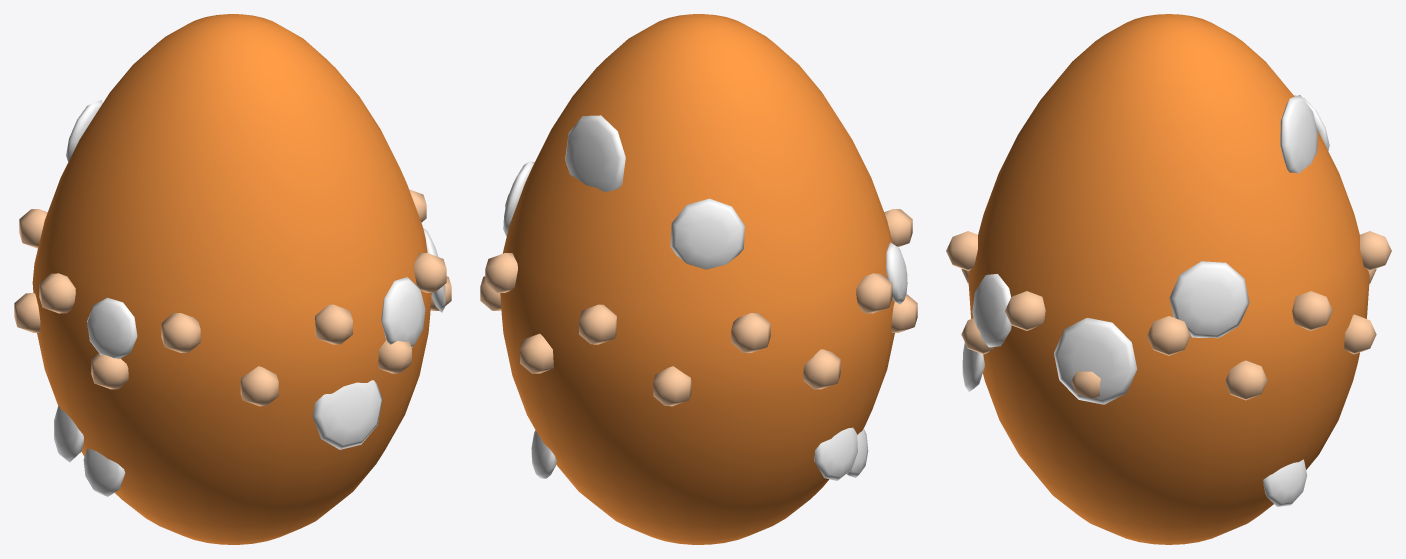
File: Egg_Forest.fbx
3 views of the same model, side by side, from view 1: azimuth 30°, elevation 25°; view 2: azimuth 150°, elevation 25°; view 3: azimuth 270°, elevation 25° (orthographic).
Visible parts, largest first — view 1: Egg_Forest; view 2: Egg_Forest; view 3: Egg_Forest.
Part boxes in pixels (x1,y1,x2,y2): Egg_Forest: [14, 14, 451, 544]; Egg_Forest: [480, 14, 917, 544]; Egg_Forest: [946, 14, 1391, 544].
Bounding box in the file's own units: 5.48 × 7 × 5.55.
Materials: 1 (1 with a texture image).
